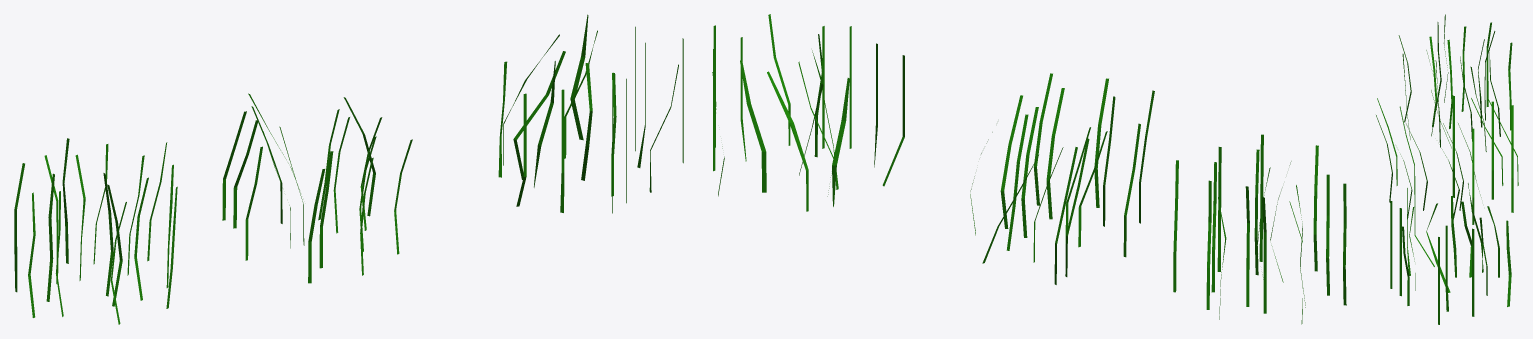
Rendered from Grass.fbx.
3 renders of one model, left to right at view 1: azimuth 30°, elevation 25°; view 2: azimuth 150°, elevation 25°; view 3: azimuth 270°, elevation 25°, orthographic. The views are drawn at different scales.
Visible parts, largest first — view 1: Plane.002, Plane.003, Plane.001; view 2: Plane.001, Plane.002, Plane.003; view 3: Plane.003, Plane.001, Plane.002.
Boxes of the visible parts, x1,y1,x2,y2 form: Plane.002: (14,138,177,324); Plane.003: (498,14,683,213); Plane.001: (222,93,412,283); Plane.001: (970,73,1154,284); Plane.002: (1173,134,1346,324); Plane.003: (712,14,904,211); Plane.003: (1390,176,1511,324); Plane.001: (1376,90,1518,224); Plane.002: (1398,14,1512,151).
Size of the model in its own units: 774 by 142 by 209.
